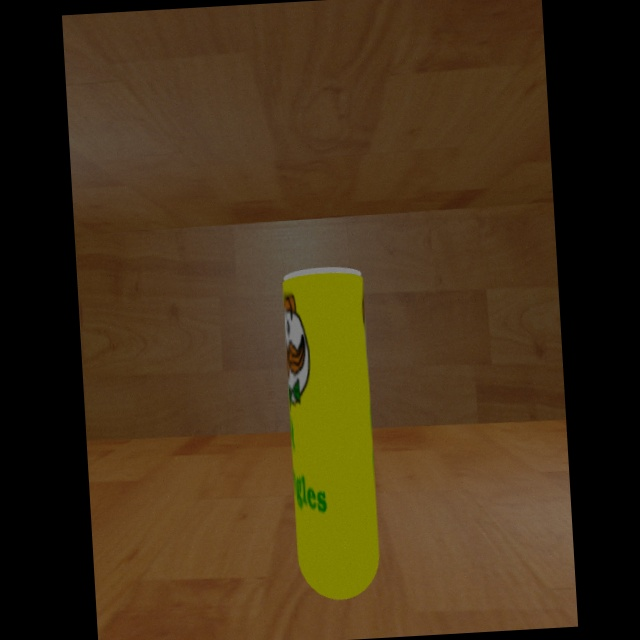chipsdose_gelb: (283, 267, 379, 601)
